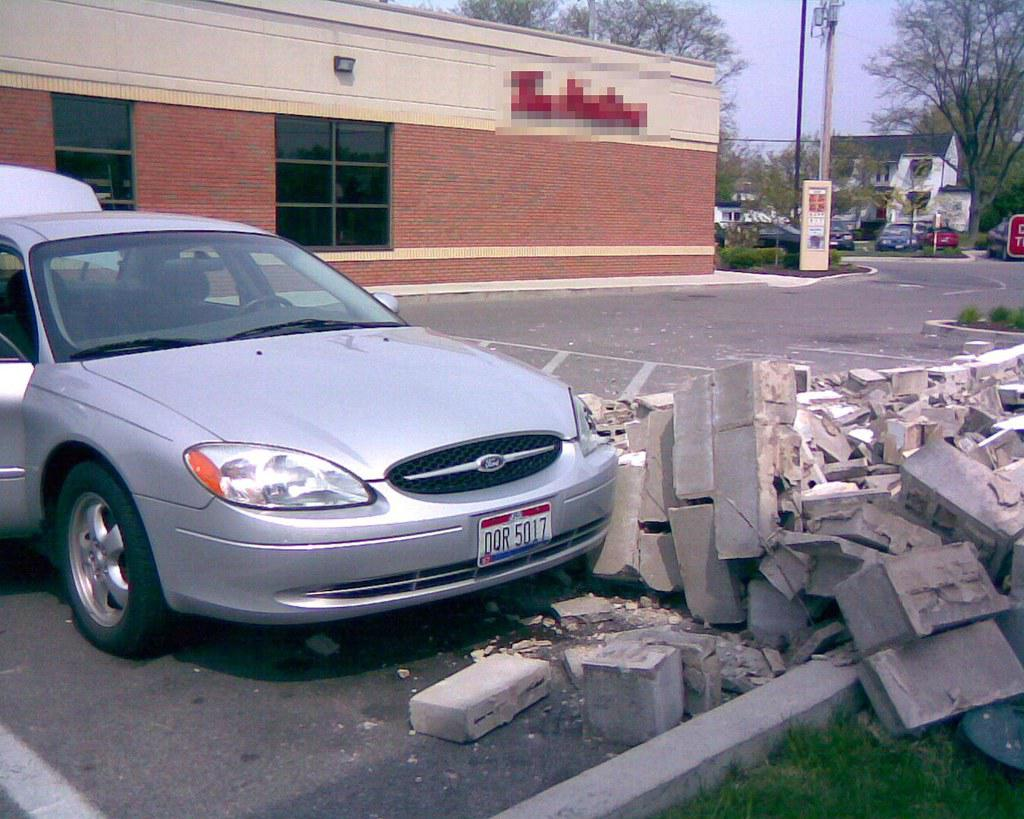bonnet-dent: (93, 318, 570, 455)
